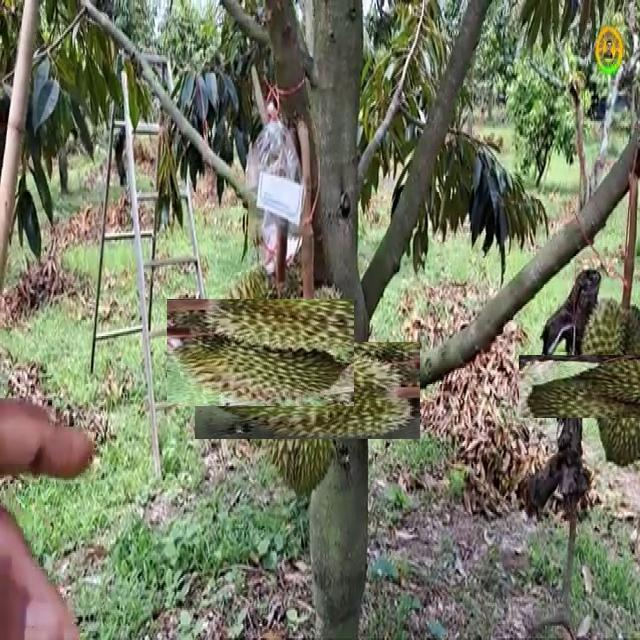durian: (226, 310, 388, 471), (187, 279, 334, 426), (548, 325, 640, 446)
